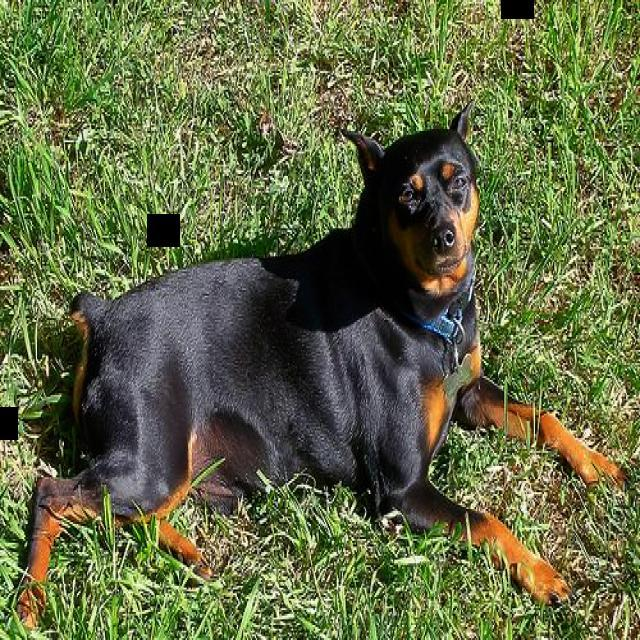adult_dog: (16, 102, 629, 631)
